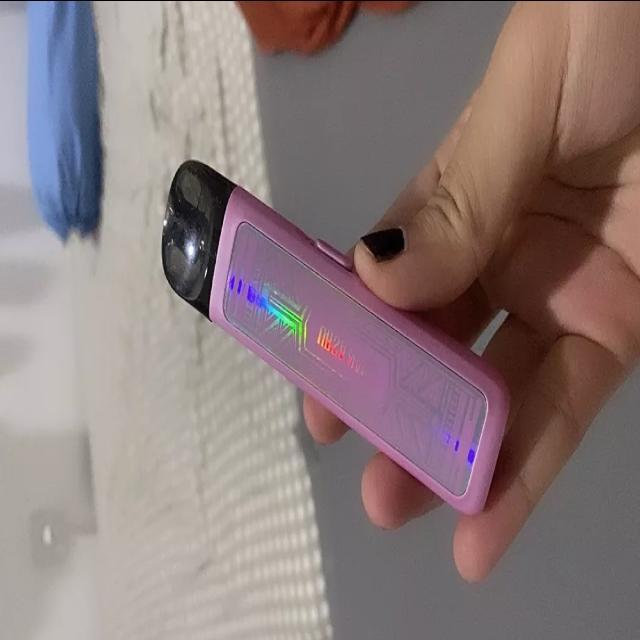Hazard: (157, 154, 512, 516)
